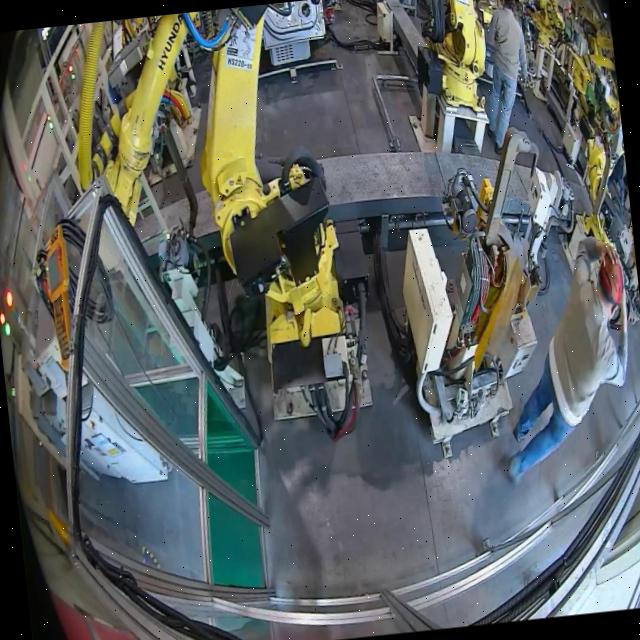Person: (484, 232, 640, 484), (471, 0, 536, 156)
